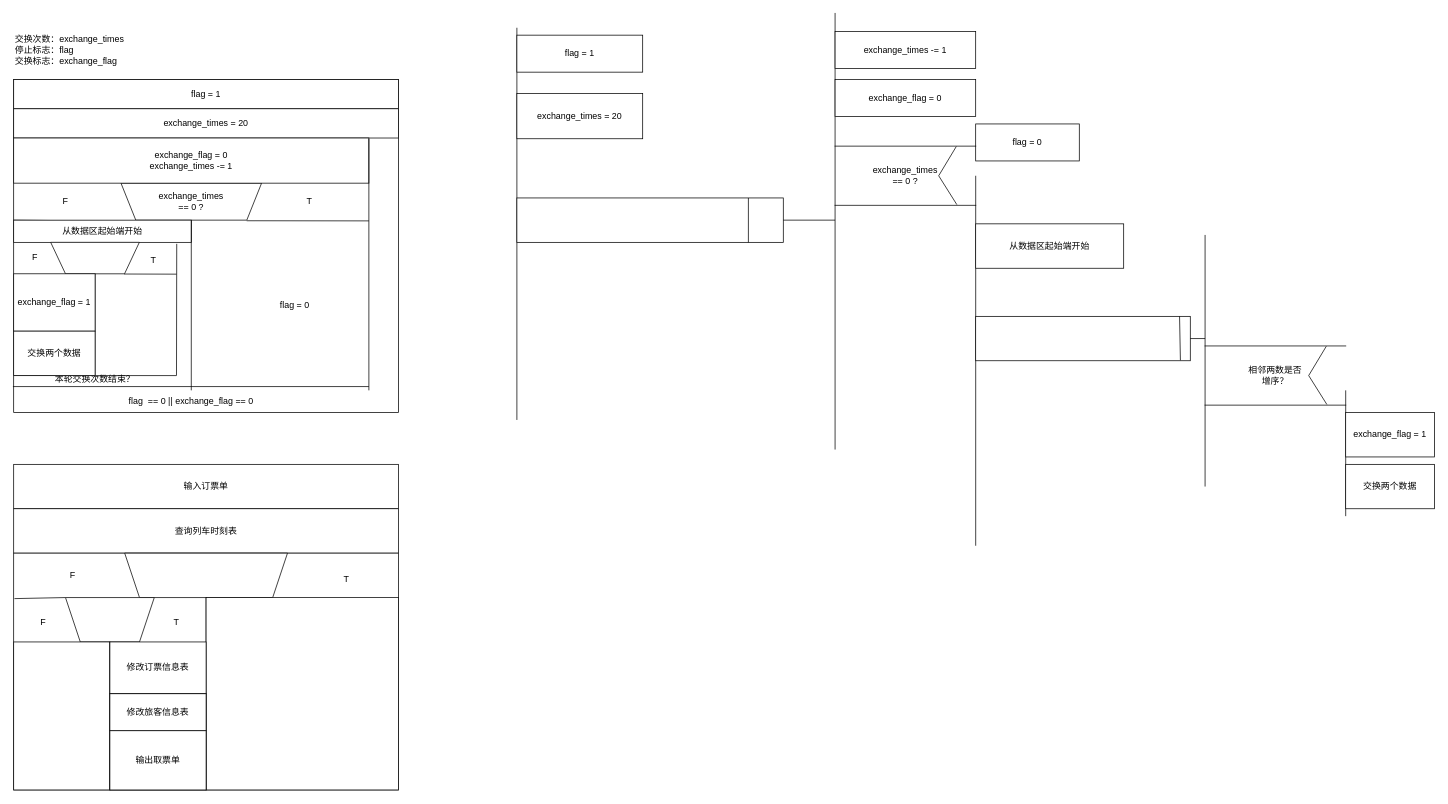
This 1448x804 diagram has some shape labels left out. Each missing label, with the box of its shape:
UNTIL flag == 0 || exchange_flag == 0 ?: (516, 197, 783, 242)
UNTIL 本轮交换次数结束: (975, 316, 1190, 361)
无票通知: (13, 641, 110, 790)
查询座位表存在剩余票: (65, 597, 154, 642)
相邻两数是否增序？: (50, 242, 139, 274)
输出订票单不合格通知: (205, 597, 398, 790)
顾客信息不齐全 || 无该车次: (124, 552, 287, 598)
